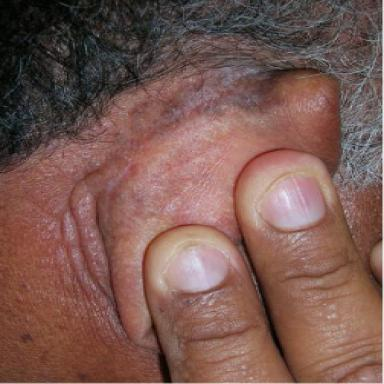Darier_s-Disease: (117, 66, 286, 151)
